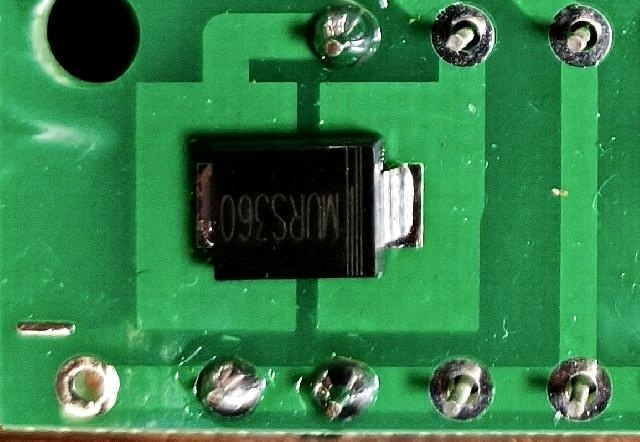diode: (185, 126, 431, 286)
